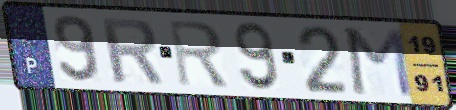2: (295, 23, 351, 95)
9: (231, 20, 282, 94), (50, 13, 100, 84)
M: (343, 26, 415, 100)
R: (97, 15, 167, 86), (166, 18, 232, 90)
